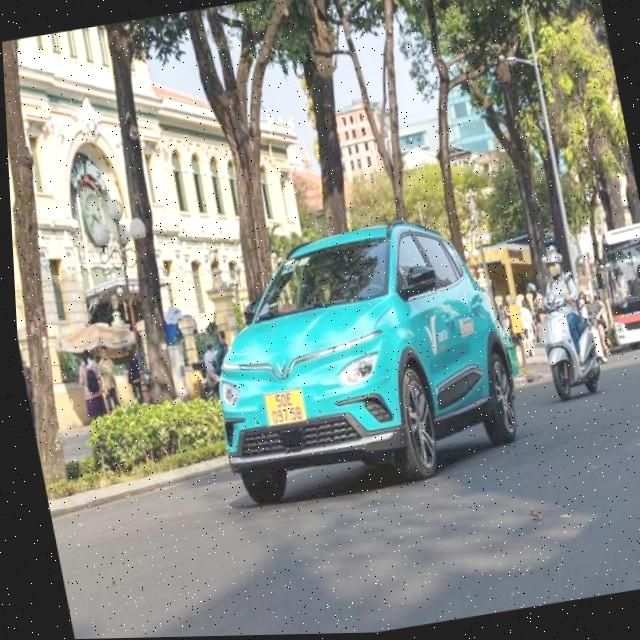car: (177, 204, 543, 518), (589, 209, 640, 371)
motorcycle: (528, 293, 609, 405)
plate: (257, 383, 313, 433), (635, 319, 640, 345)
